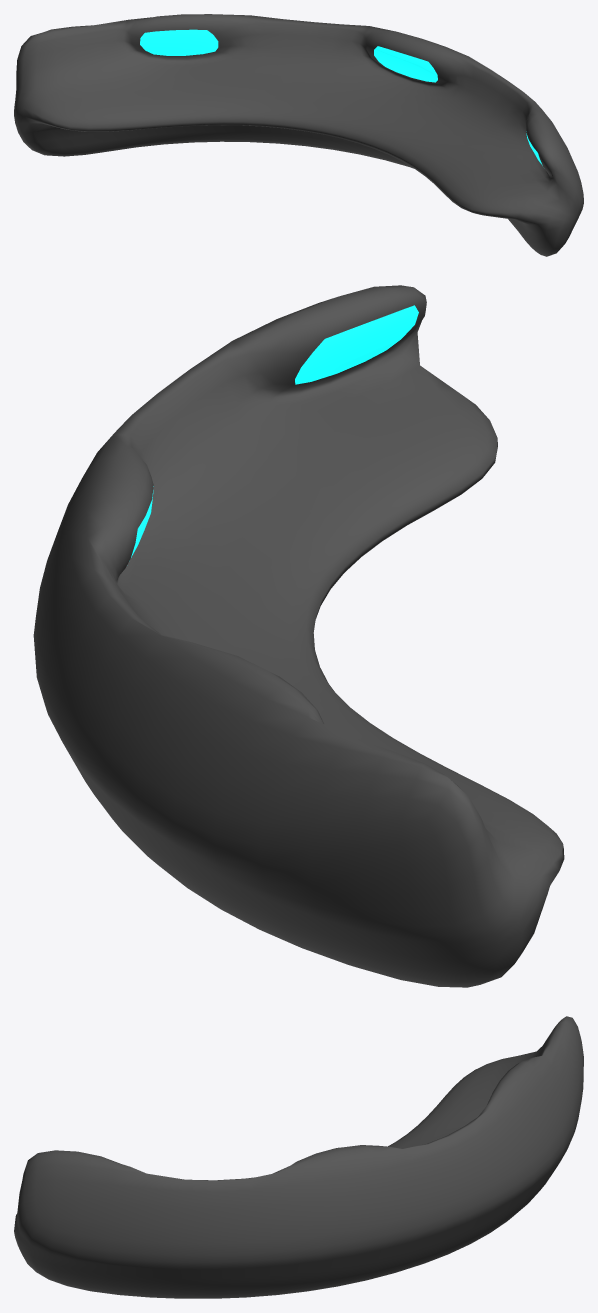
Rendered from Lab Set A_ComputerSet.fbx.
3 views of the same model, one above another, from view 1: azimuth 30°, elevation 25°; view 2: azimuth 150°, elevation 25°; view 3: azimuth 270°, elevation 25° (orthographic). The views are drawn at different scales.
Visible parts, largest first — view 1: Computer; view 2: Computer; view 3: Computer.
Boxes of the visible parts, x1,y1,x2,y2 form: Computer: (14, 14, 583, 256); Computer: (33, 285, 564, 987); Computer: (14, 1016, 583, 1298).
Bounding box in the file's own units: 48.29 × 16.01 × 61.24.
